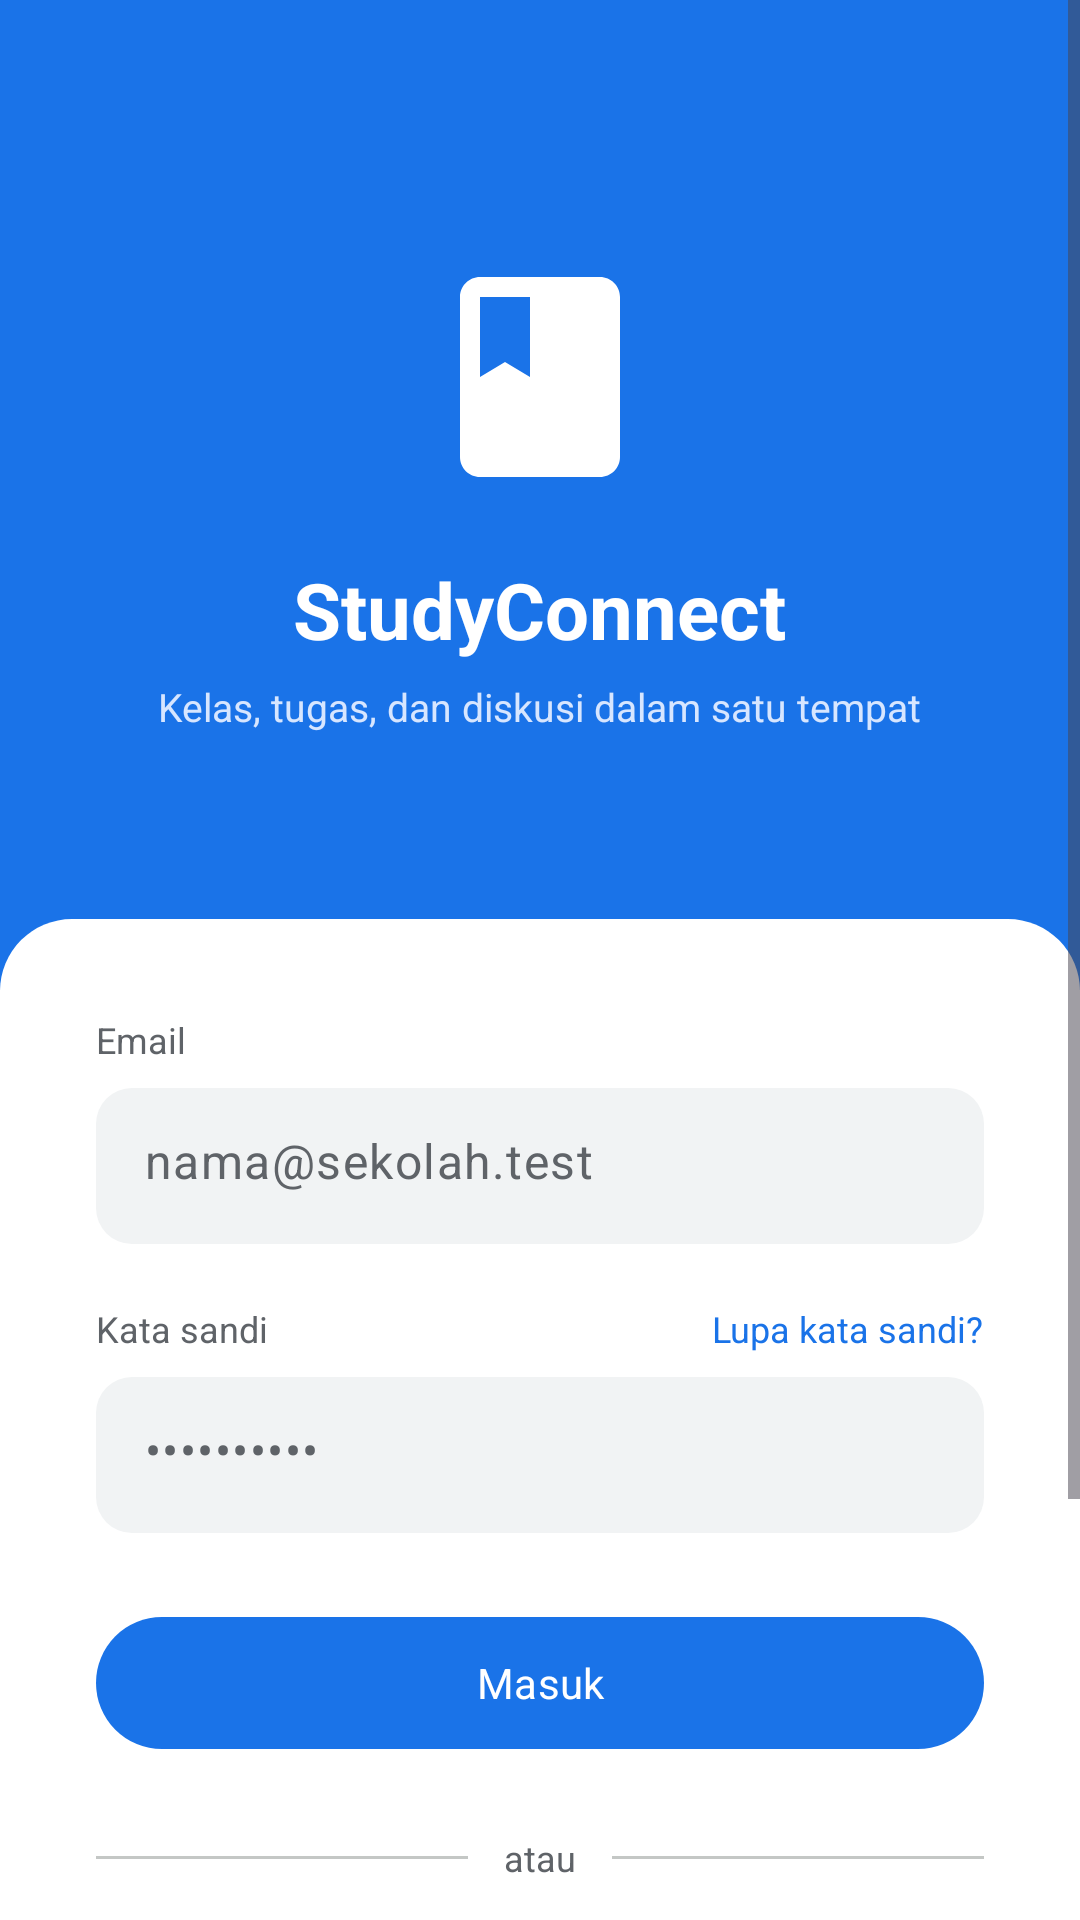

Screen size 1080 × 1920. Icon name, then its center in pixels as point (x, y):
book: point (540, 377)
